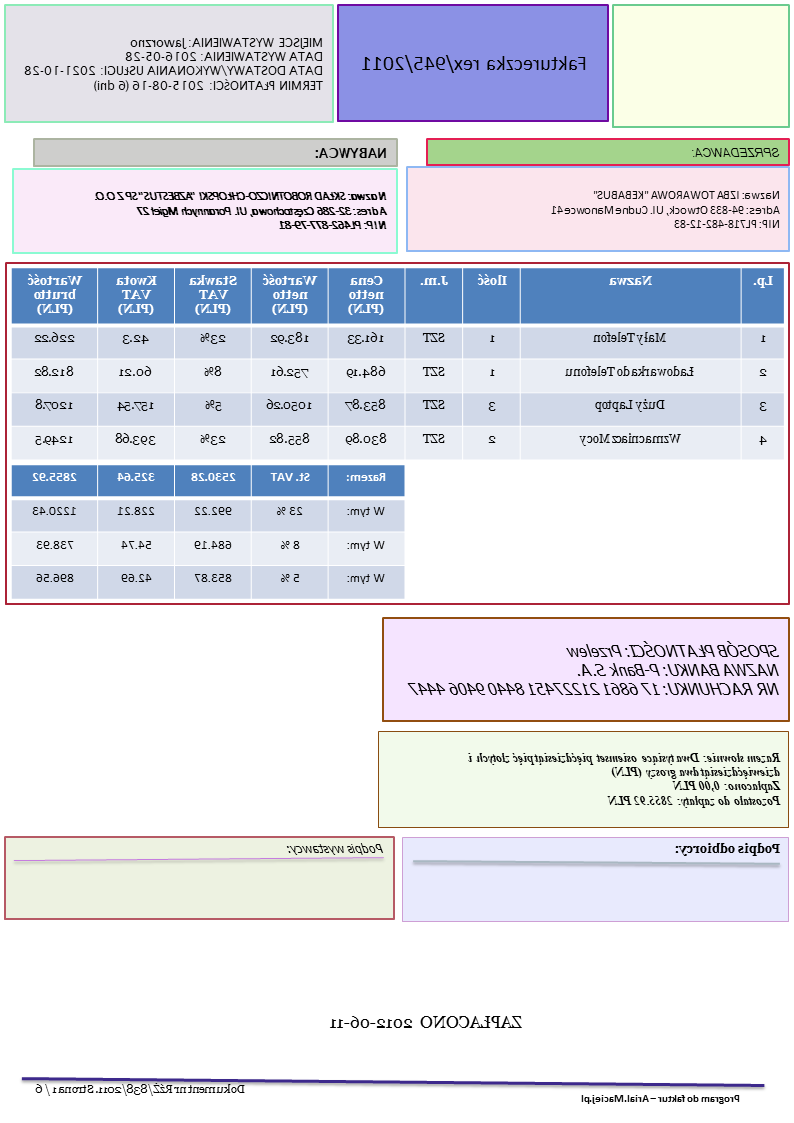Table: (11, 266, 786, 462), (10, 463, 406, 601)
TextBox: (407, 641, 781, 701), (466, 749, 784, 809), (22, 34, 326, 95), (93, 188, 391, 233), (549, 186, 784, 231), (361, 52, 591, 77), (33, 1080, 247, 1100), (328, 1013, 527, 1032), (579, 1091, 743, 1105), (672, 840, 783, 858), (287, 840, 386, 858), (690, 143, 783, 161), (314, 143, 390, 162)
